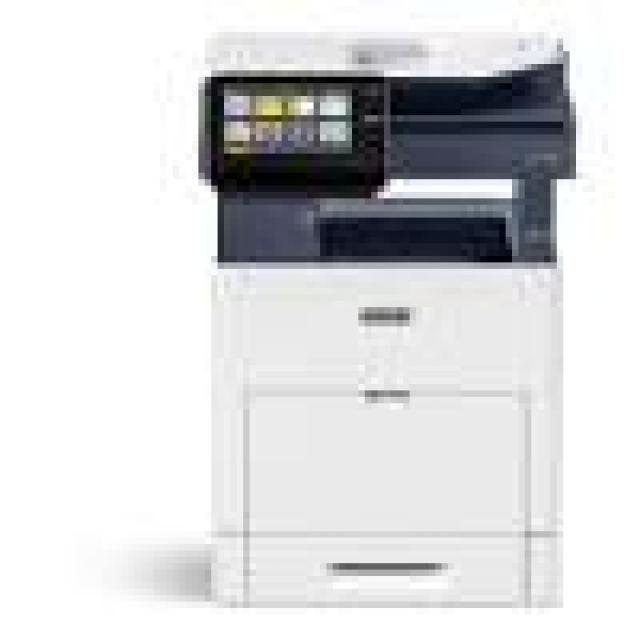printer: (70, 0, 640, 640)
